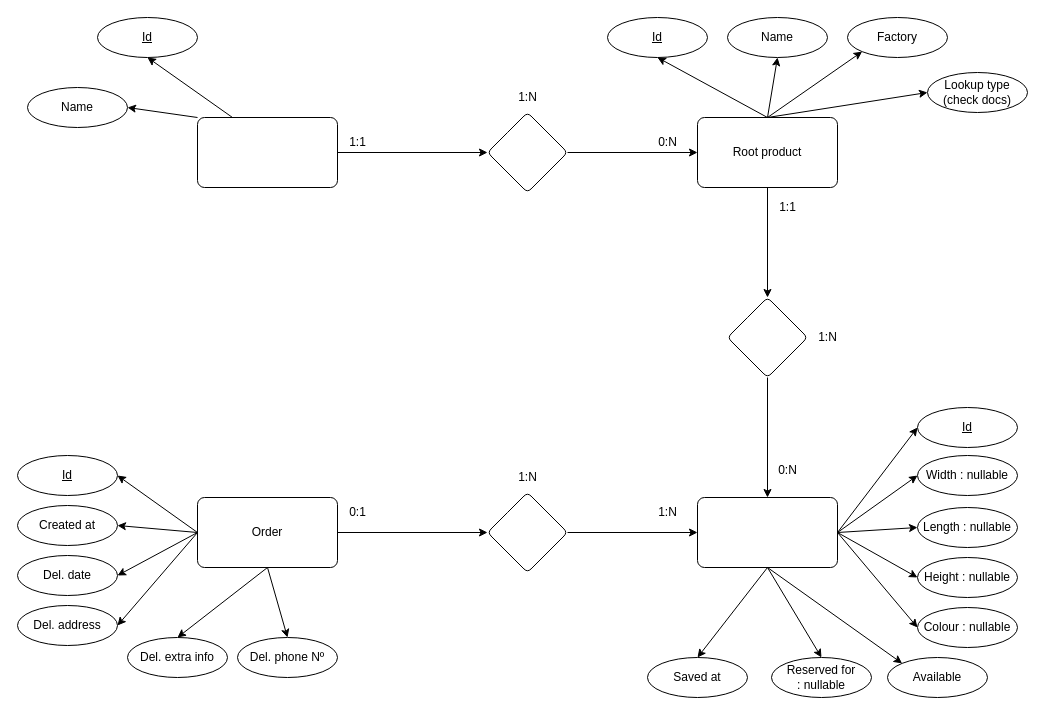
Image size: 1045x715. Some labels were removed from this diagram. The shapes that lost their labels are listed below. From the top down, each one's box as (x1, y1, x2, y2) in pixels, then its label:
(196, 116, 338, 188): Category
(486, 112, 568, 192): Has products
(726, 296, 808, 378): Has instances
(486, 492, 568, 572): Contains prod. instances
(696, 496, 838, 568): Product Instance
